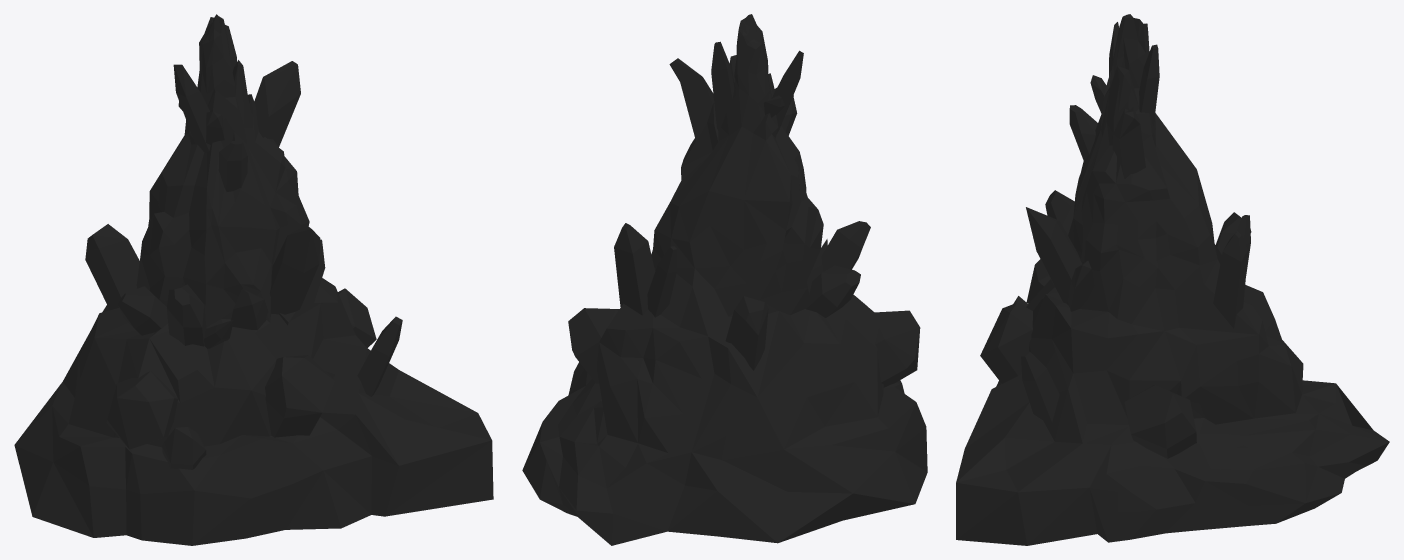
Rendered from mining_PP_Crystal_Column_04_Iron.gltf.
3 renders of one model, left to right at view 1: azimuth 30°, elevation 25°; view 2: azimuth 150°, elevation 25°; view 3: azimuth 270°, elevation 25°, orthographic. The views are drawn at different scales.
Visible parts, largest first — view 1: PP_Crystal_Column_04_Iron; view 2: PP_Crystal_Column_04_Iron; view 3: PP_Crystal_Column_04_Iron.
Part boxes in pixels (x1,y1,x2,y2): PP_Crystal_Column_04_Iron: (14, 14, 493, 545); PP_Crystal_Column_04_Iron: (522, 14, 927, 545); PP_Crystal_Column_04_Iron: (956, 14, 1389, 545).
Size of the model in its own units: 1.35 by 1.57 by 1.4.
1 material, 1 textured.
